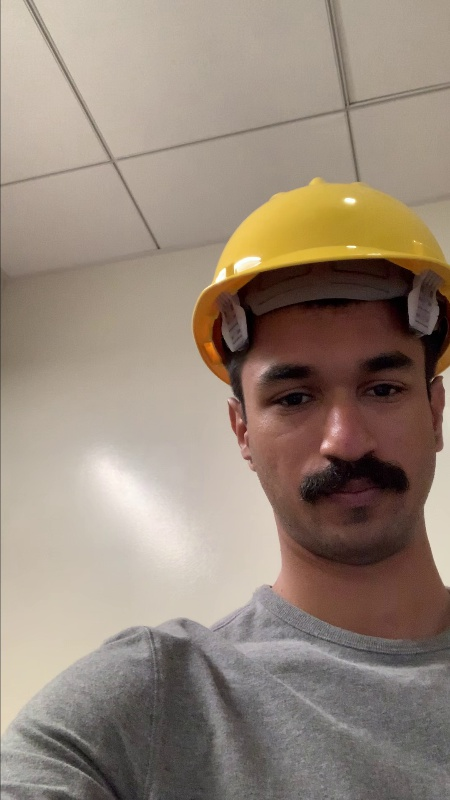helmet: (186, 176, 450, 290)
